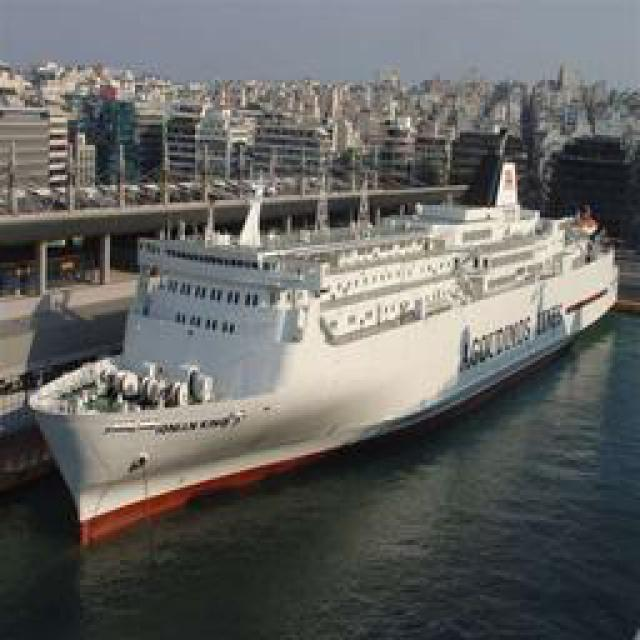Ship: (29, 156, 624, 571)
